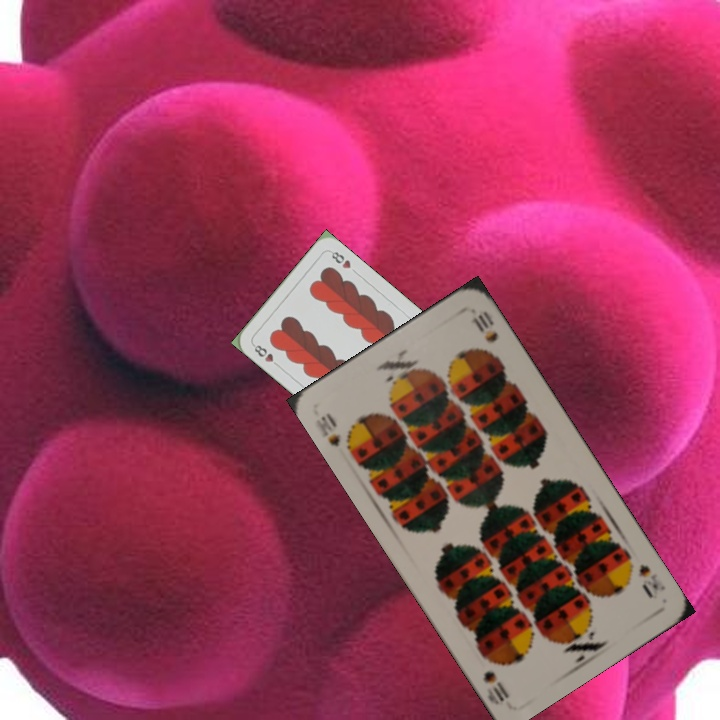H8: (249, 340, 283, 370)
S10: (311, 409, 358, 457), (634, 560, 668, 594)
